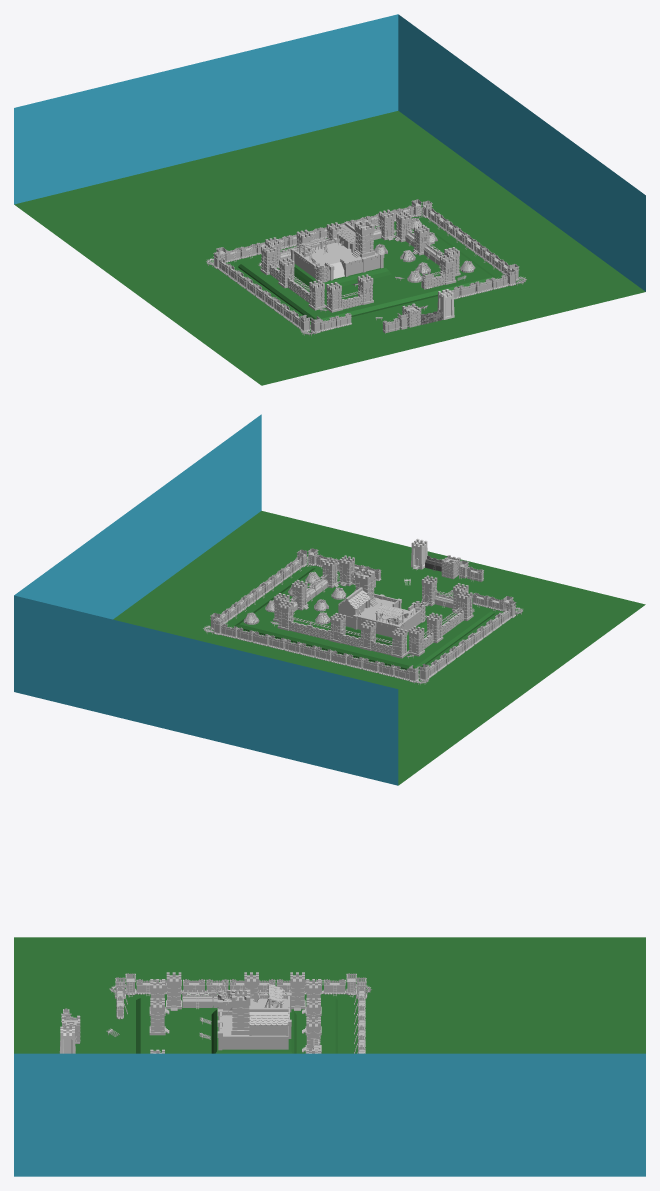
Rendered from wall dengan tanggal.fbx.
3 views of the same model, one above another, from view 1: azimuth 30°, elevation 25°; view 2: azimuth 150°, elevation 25°; view 3: azimuth 270°, elevation 25° (orthographic). The views are drawn at different scales.
Visible parts, largest first — view 1: Plane, Cube; view 2: Plane, Cube; view 3: Plane, Cube, Cube.002, Cube.025, Cube.028, Cube.023.
Boxes of the visible parts, x1,y1,x2,y2 form: Plane: (14,14,645,385); Cube: (290,220,384,282); Plane: (14,414,645,785); Cube: (338,569,430,637); Plane: (14,937,645,1176); Cube: (211,980,291,1050); Cube.002: (149,998,169,1035); Cube.025: (166,972,181,1010); Cube.028: (290,972,305,1010); Cube.023: (182,990,212,1008).
Size of the model in its own units: 884 by 214 by 987.
